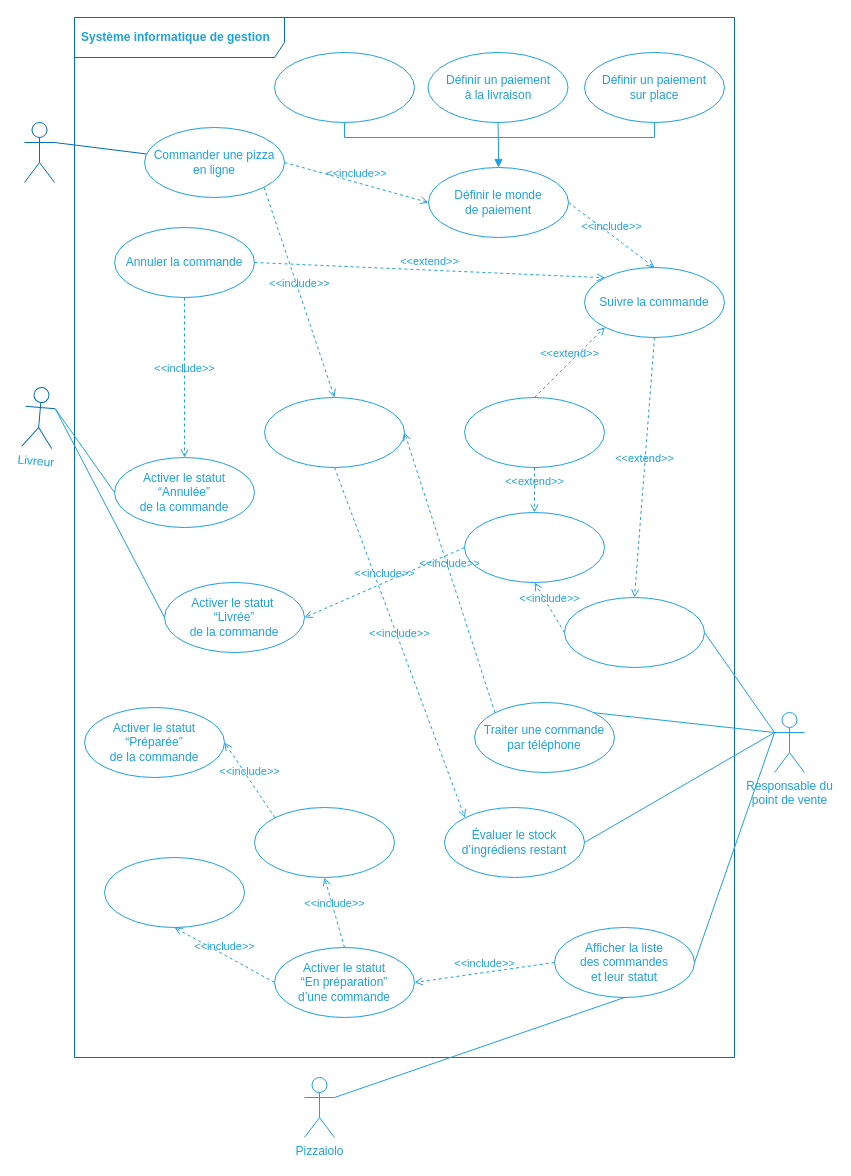
The diagram is 851 pixels wide and 1176 high, and some of its shapes have lost their labels. The centre of each missing label's shape, as x and y in pixels:
"Activer le statut “Acceptée” de la commande" belongs at (534,547).
"Afficher les ingrédients de la pizza commandée" belongs at (174,892).
"Client" belongs at (39,152).
"Mettre à jour le stock d’ingrédiens restant" belongs at (324,842).
"Modifier la commande" belongs at (534,432).
"Payer en ligne immédiatement" belongs at (344,87).
"Traiter une commande sur place" belongs at (634,632).
"Vérifier si la pizza peut être préparée" belongs at (334,432).
